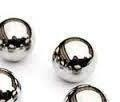ironball: (49, 32, 101, 84), (0, 15, 38, 63), (61, 83, 114, 101), (0, 66, 25, 101)
